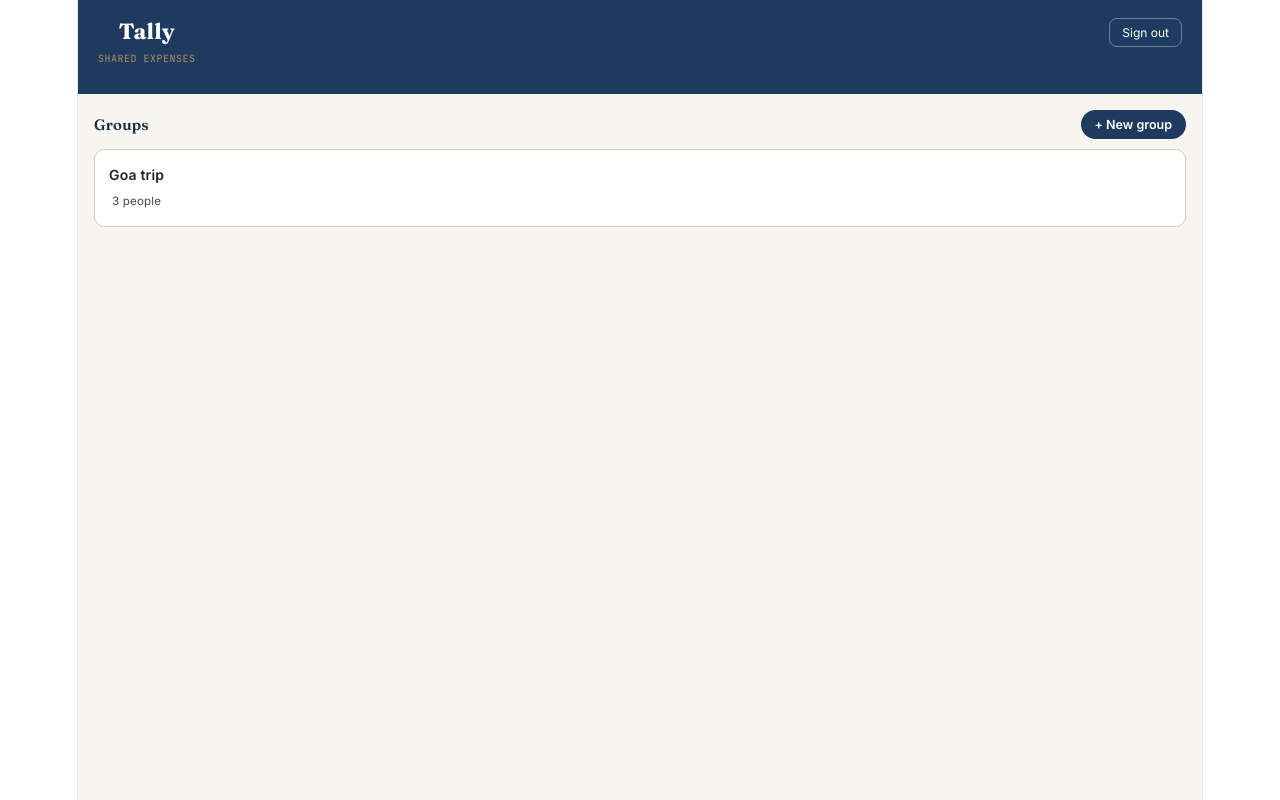
Test: Signed-in app › opens the new-group sheet and creates a group
Later steps or results of the test are not shown.
Click the button "+ New group". click: (1133, 125)
box: [1080,110,1186,139]
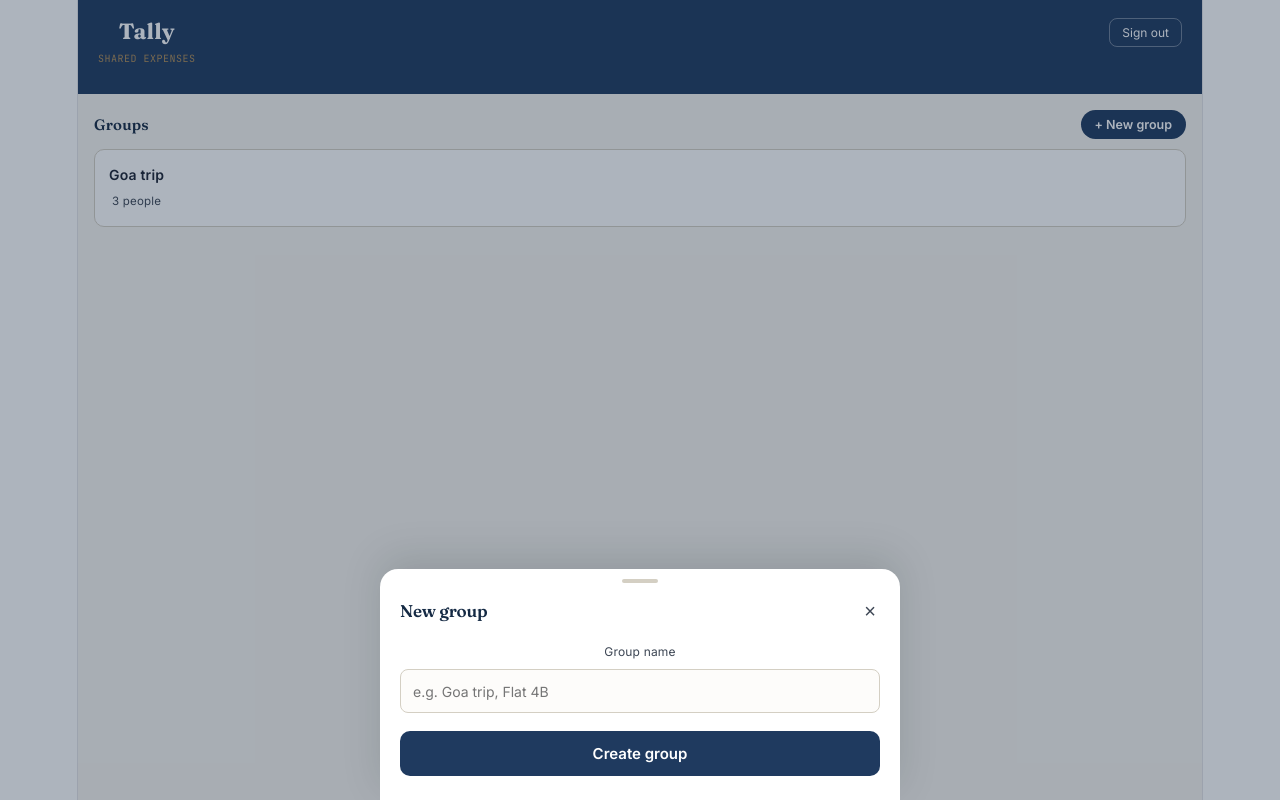
Result: the field with placeholder "e.g. Goa trip, Flat 4B" is shown at [400,669,880,713]
